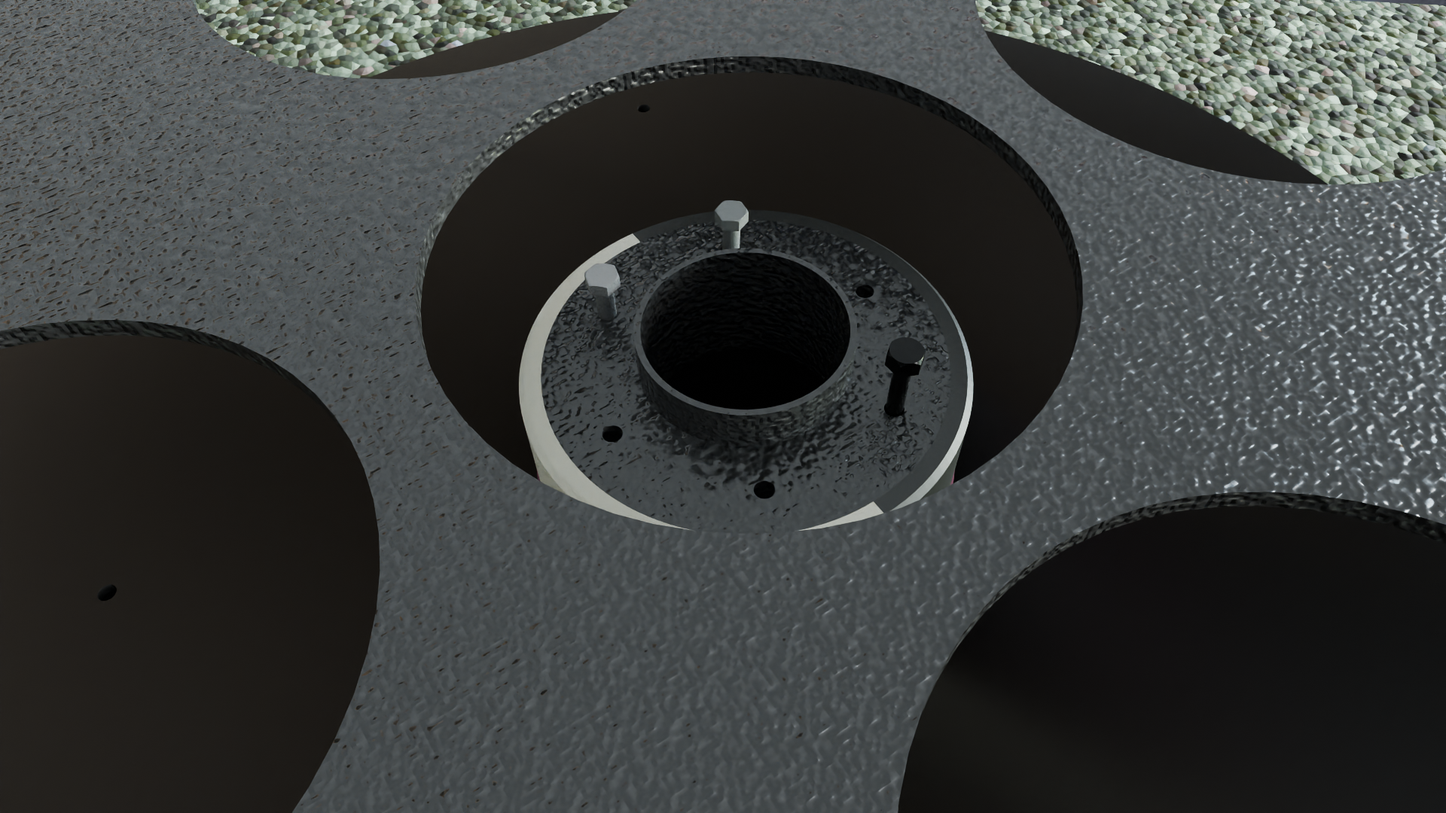bolt: (886, 337, 926, 367), (584, 263, 620, 288), (715, 200, 749, 222)
